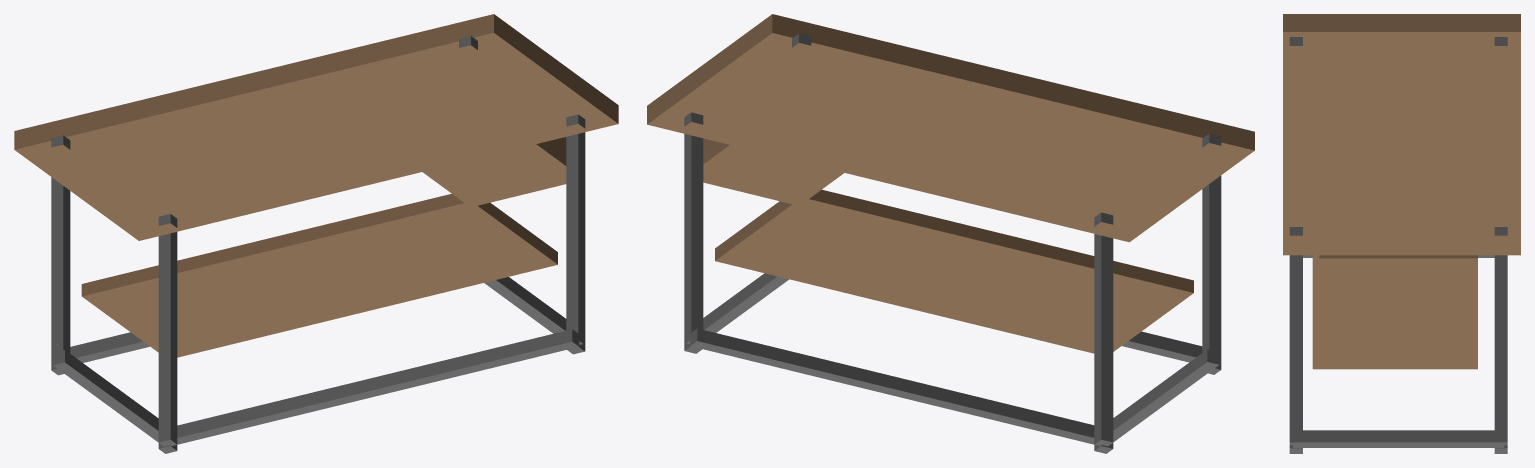
Rendered from masa.glb.
The picture shows the model from 3 angles, left to right: view 1: azimuth 30°, elevation 25°; view 2: azimuth 150°, elevation 25°; view 3: azimuth 270°, elevation 25°; orthographic projection. The views are drawn at different scales.
Size of the model in its own units: 1.6 by 0.77 by 0.72.
